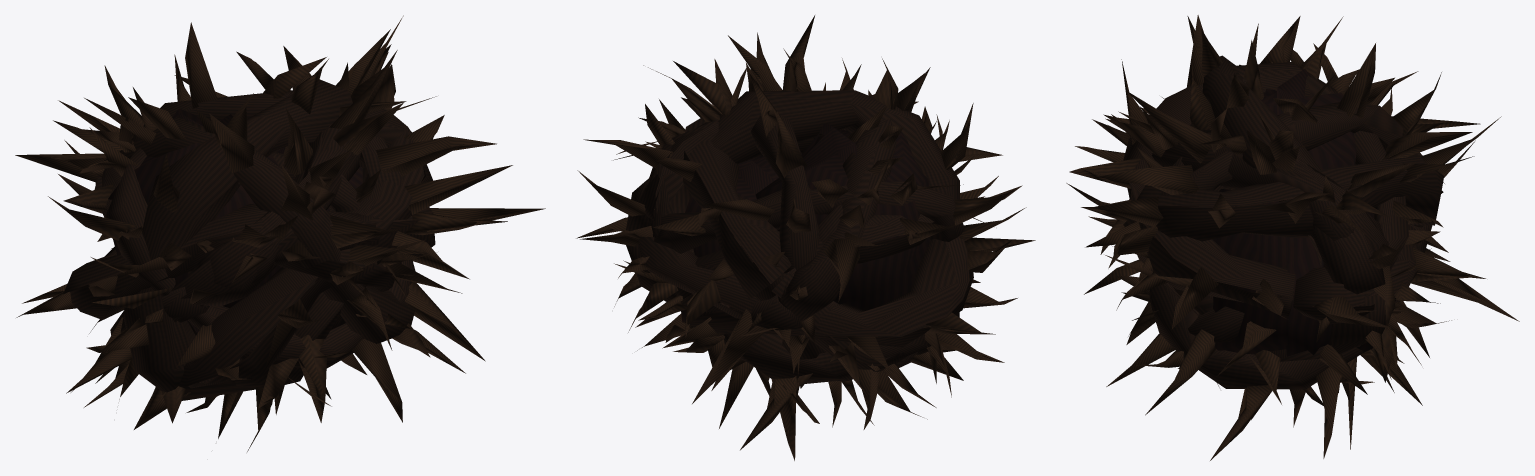
The model's file is Thorn_B_GnarledKnot_Detail2.fbx.
3 views of the same model, side by side, from view 1: azimuth 30°, elevation 25°; view 2: azimuth 150°, elevation 25°; view 3: azimuth 270°, elevation 25° (orthographic). The views are drawn at different scales.
Parts seen in each view (by area): view 1: ThornSurface; view 2: ThornSurface; view 3: ThornSurface.
Part boxes in pixels (x1,y1,x2,y2): ThornSurface: (15,15,545,451); ThornSurface: (576,15,1035,460); ThornSurface: (1066,15,1519,460).
Bounding box in the file's own units: 297 × 236 × 259.
